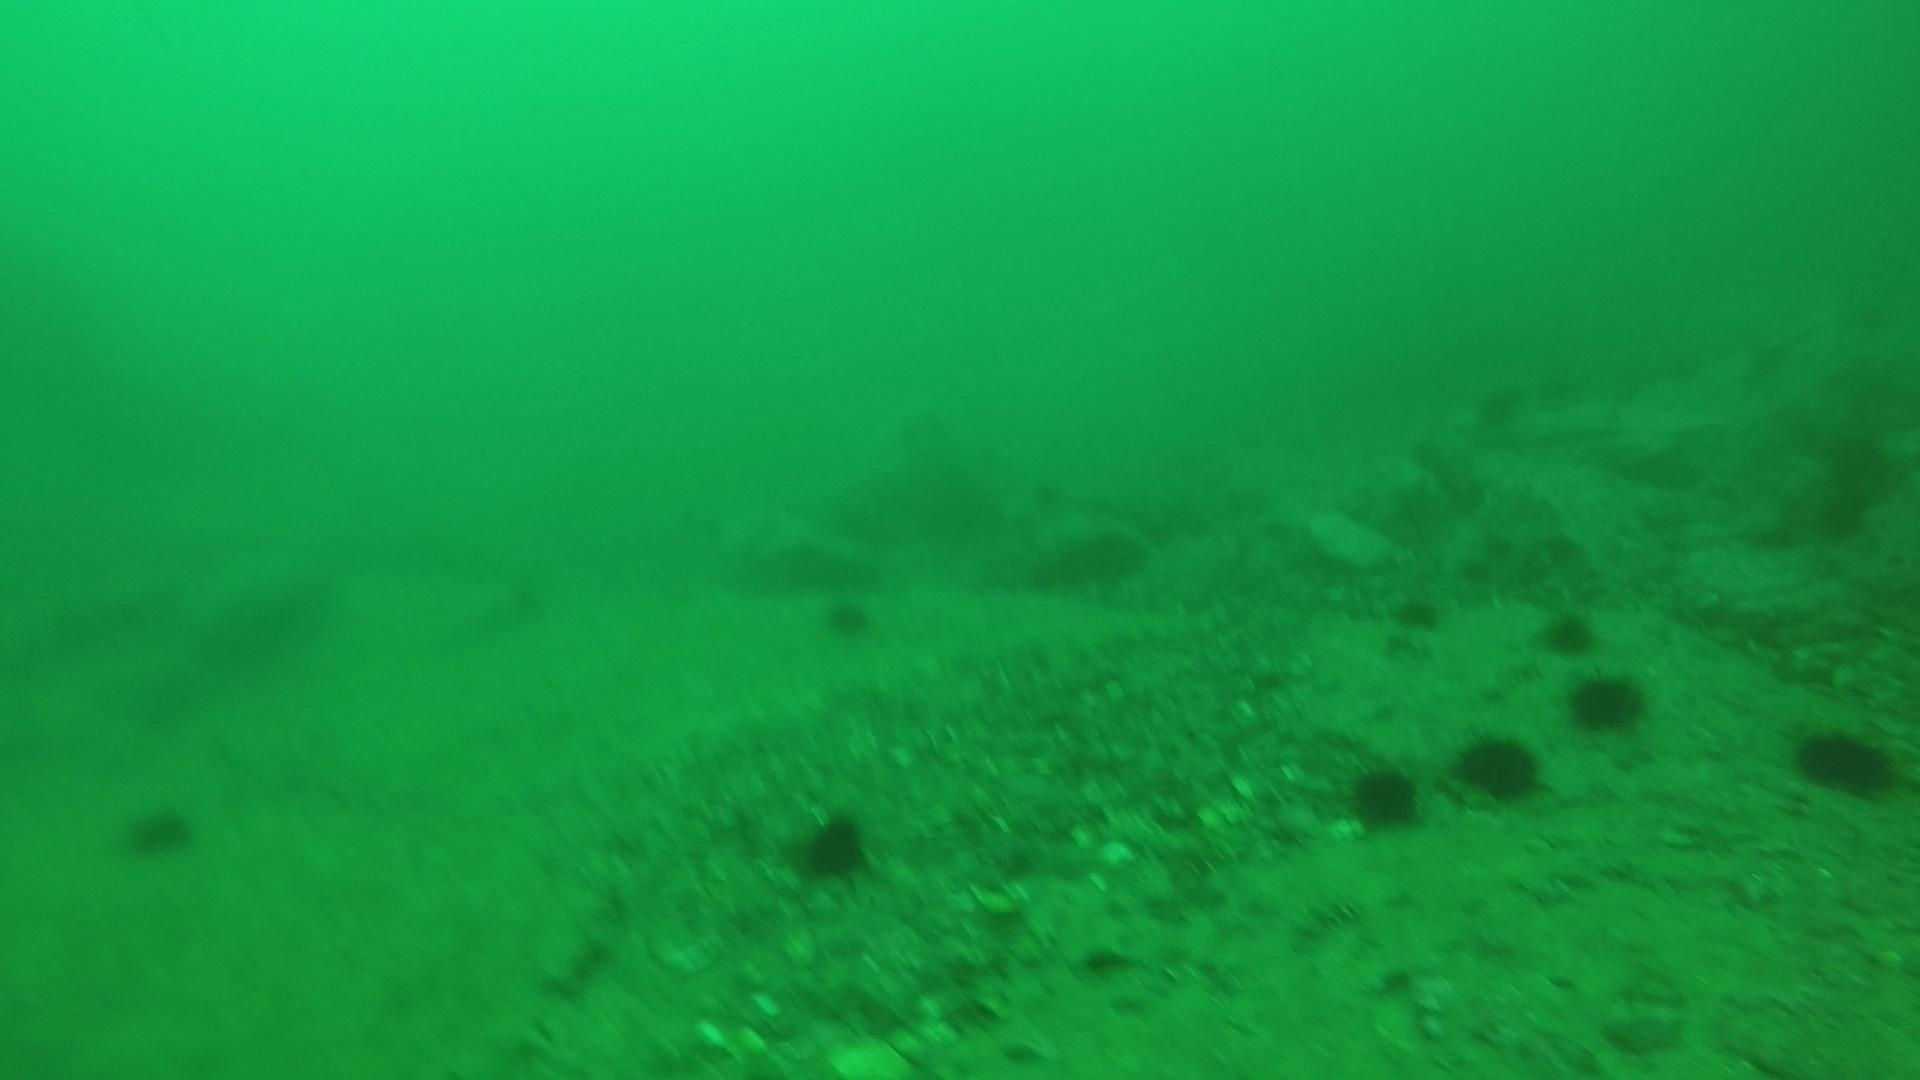echinus: (1787, 717, 1902, 802), (1038, 520, 1150, 595), (1451, 727, 1547, 808), (789, 806, 877, 887), (1341, 756, 1427, 836), (1563, 665, 1652, 738), (120, 796, 199, 862), (1534, 604, 1601, 659), (818, 592, 878, 644), (1386, 588, 1447, 638)
